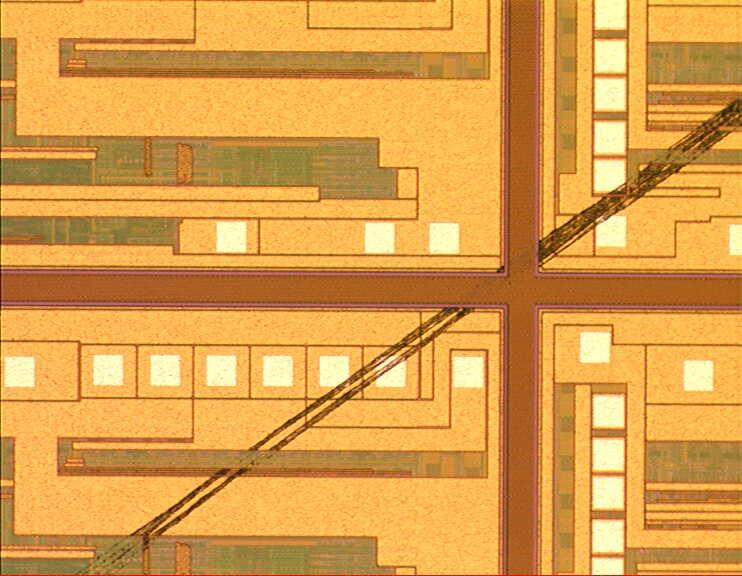SCRATCH: (75, 91, 742, 576)
